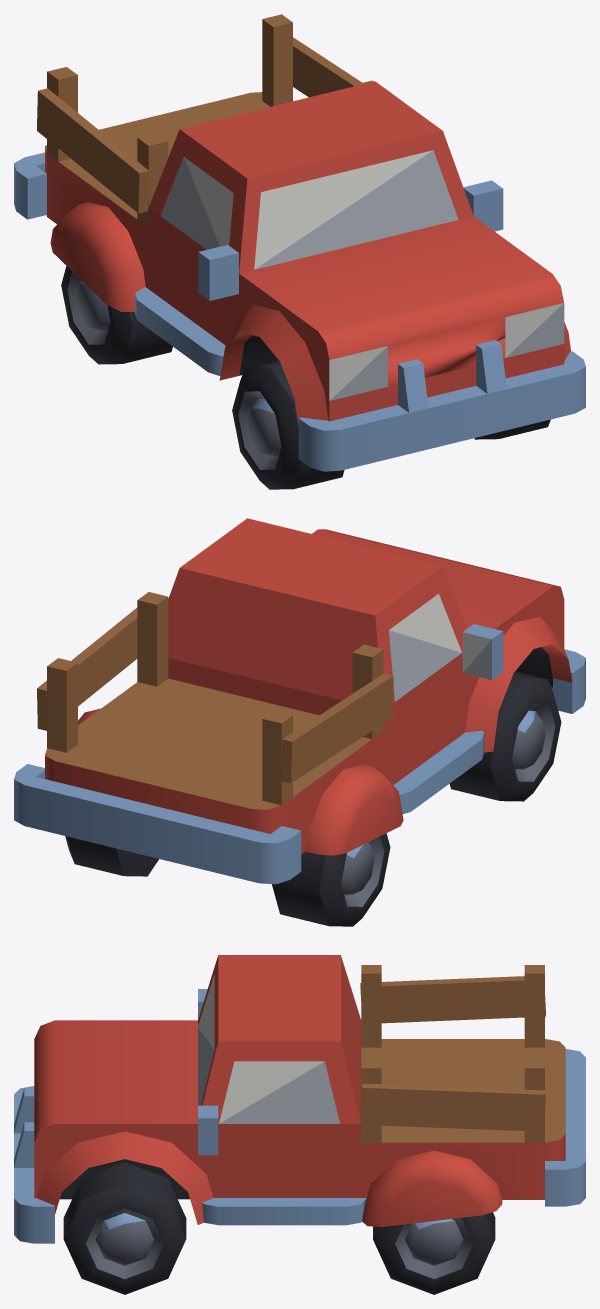
The model's file is vehicle-truck-red.glb.
3 views of the same model, one above another, from view 1: azimuth 30°, elevation 25°; view 2: azimuth 150°, elevation 25°; view 3: azimuth 270°, elevation 25° (orthographic). The views are drawn at different scales.
Parts seen in each view (by area): view 1: vehicle-truck-red; view 2: vehicle-truck-red; view 3: vehicle-truck-red.
Part boxes in pixels (x1=…): vehicle-truck-red: x1=14, y1=14, x2=585, y2=489; vehicle-truck-red: x1=14, y1=518, x2=585, y2=926; vehicle-truck-red: x1=14, y1=955, x2=585, y2=1294.
Bounding box in the file's own units: 2.55 × 2.21 × 4.76.
